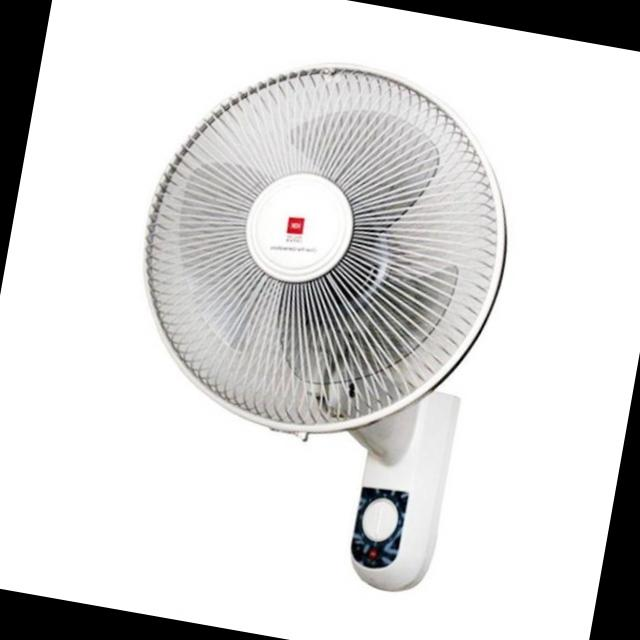fan: (56, 17, 578, 630)
